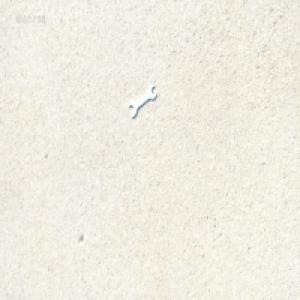Wrench: (128, 83, 157, 118)
